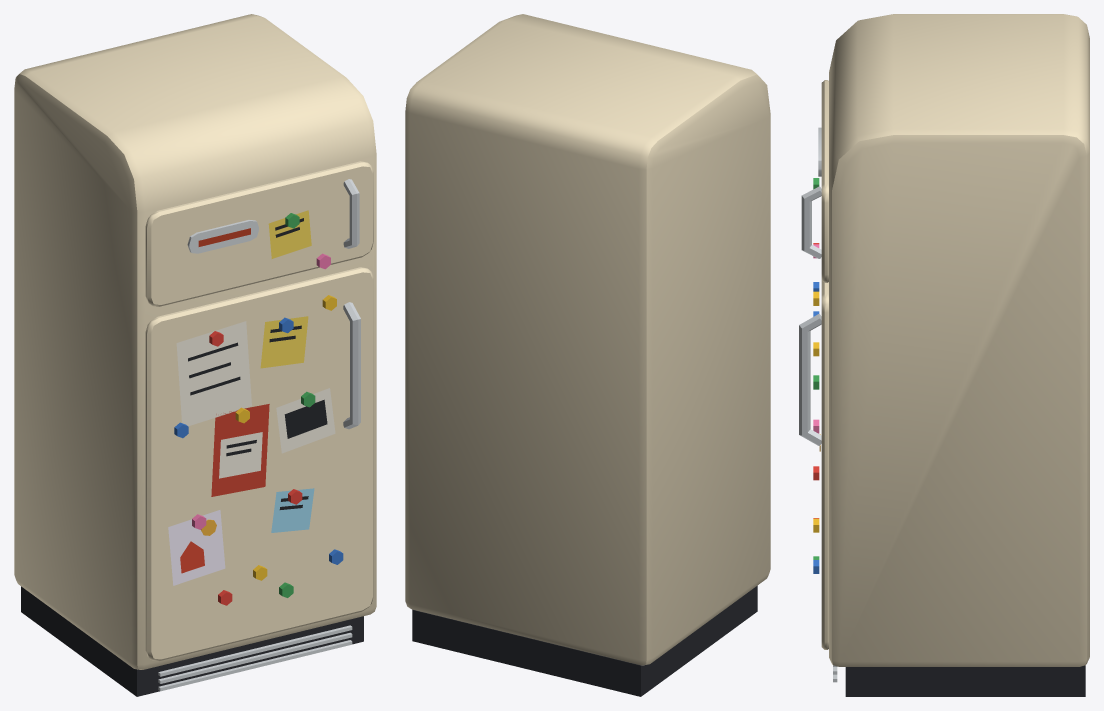
File: Shop_Fridge.fbx
3 renders of one model, left to right at view 1: azimuth 30°, elevation 25°; view 2: azimuth 150°, elevation 25°; view 3: azimuth 270°, elevation 25°, orthographic. The views are drawn at different scales.
Visible parts, largest first — view 1: Body, Doors, Papers, Chrome, Kick, Paper0, Paper1, Paper2, Ink, Paper3, DrawHouse; view 2: Body, Kick; view 3: Body, Kick, Doors, Chrome.
Part boxes in pixels (x1,y1,x2,y2): Body: (14,14,376,669); Doors: (145,161,373,660); Papers: (176,321,335,478); Chrome: (158,179,360,691); Kick: (21,586,363,696); Paper0: (260,210,311,368); Paper1: (211,404,269,496); Paper2: (168,510,225,585); Ink: (188,218,327,509); Paper3: (271,488,314,532); DrawHouse: (180,541,204,573); Body: (405,14,770,665); Kick: (412,585,757,696); Body: (829,14,1089,666); Kick: (845,665,1085,696); Doors: (821,80,828,649); Chrome: (799,127,837,682).
Bounding box in the file's own units: 280 × 600 × 279.
